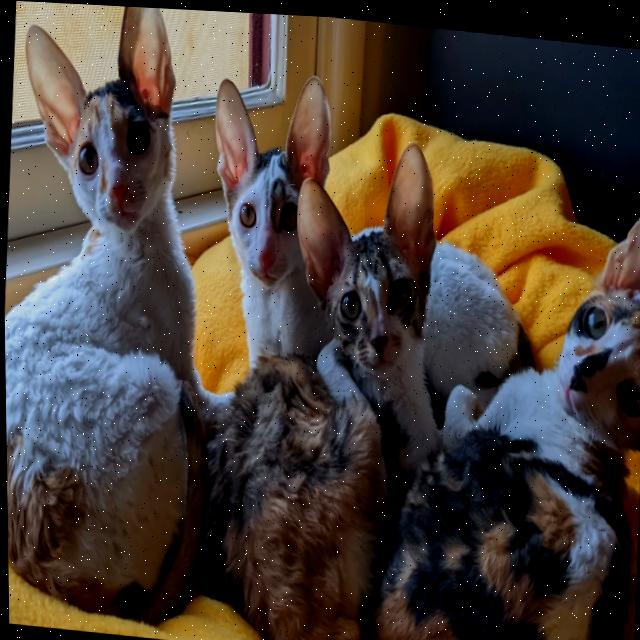Cornish Rex: (0, 0, 234, 633), (200, 114, 451, 640), (401, 148, 640, 640), (198, 54, 343, 381)
